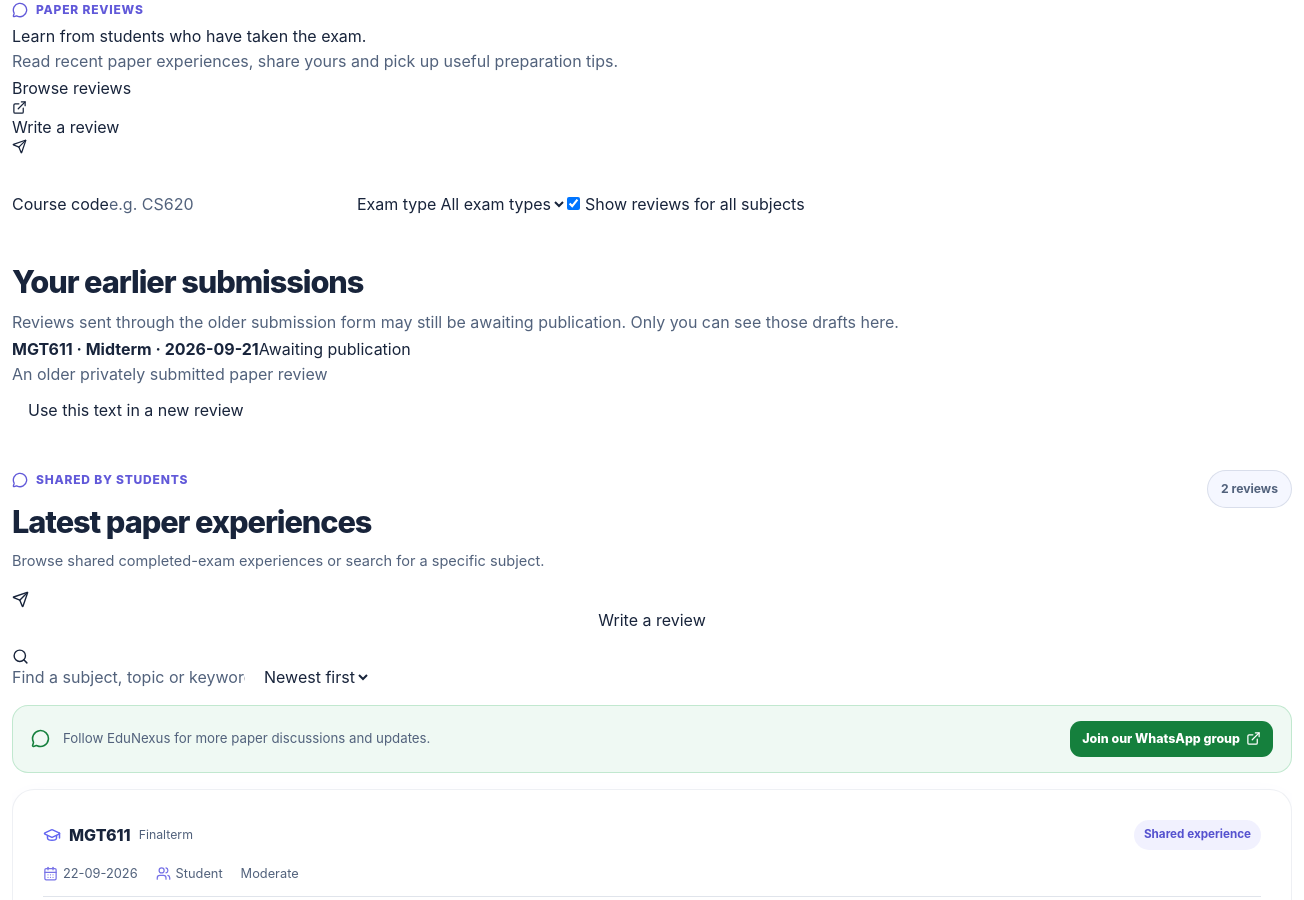
Test: a previous private submission can prefill a new review without publishing or auto-consenting
Expected: the text "An older privately submitted paper review" is shown, [12,364,328,384]
Click the button "Use this text in a new review".
click(136, 410)  # box [12,388,260,432]
(page scrolled)
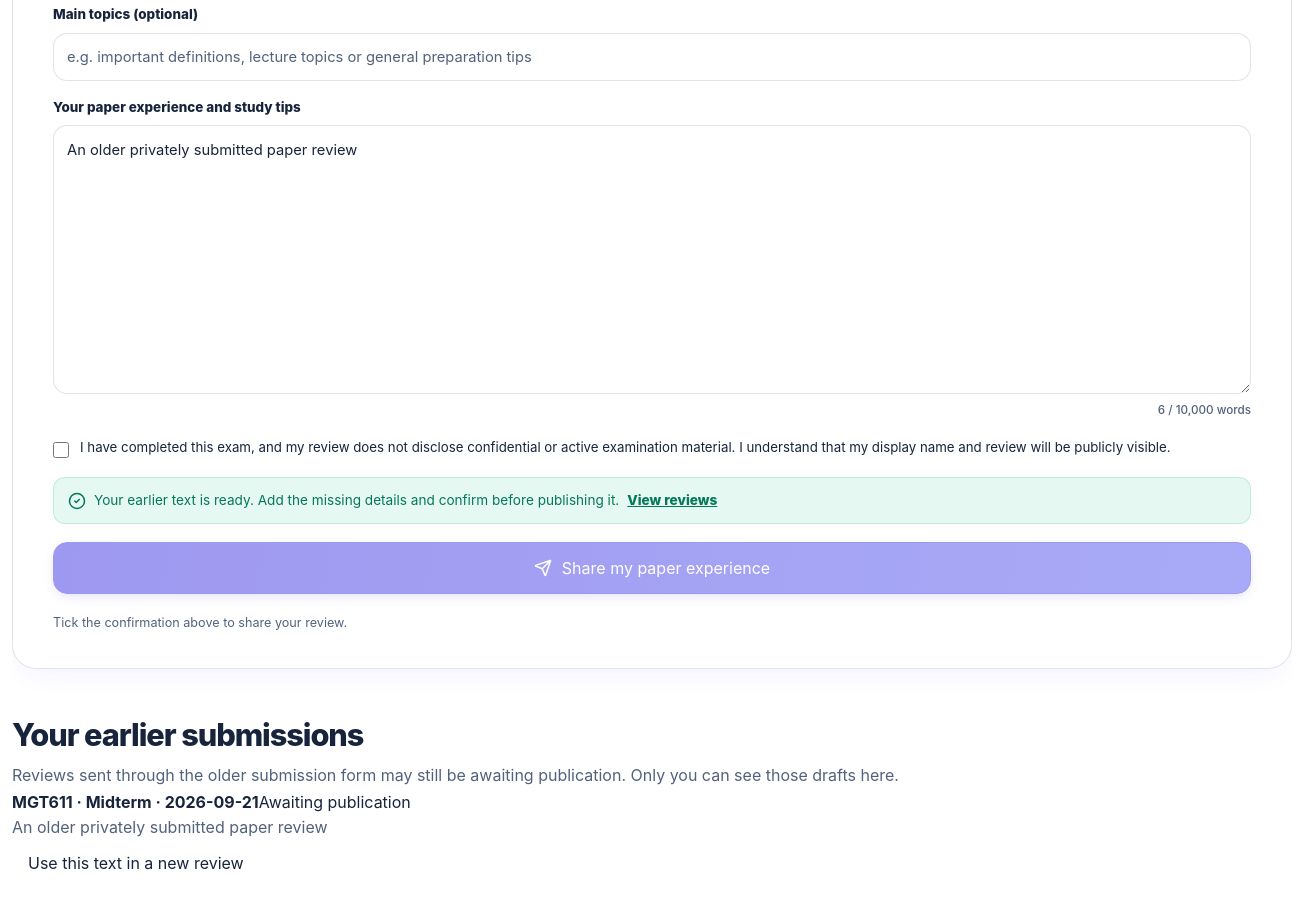
Result: the text box labelled "Your paper experience and study tips 6 / 10,000 words" holds "An older privately submitted paper review" at [53,125,1251,394]
Result: the checkbox labelled "I have completed this exam" is not checked at [53,442,69,458]
